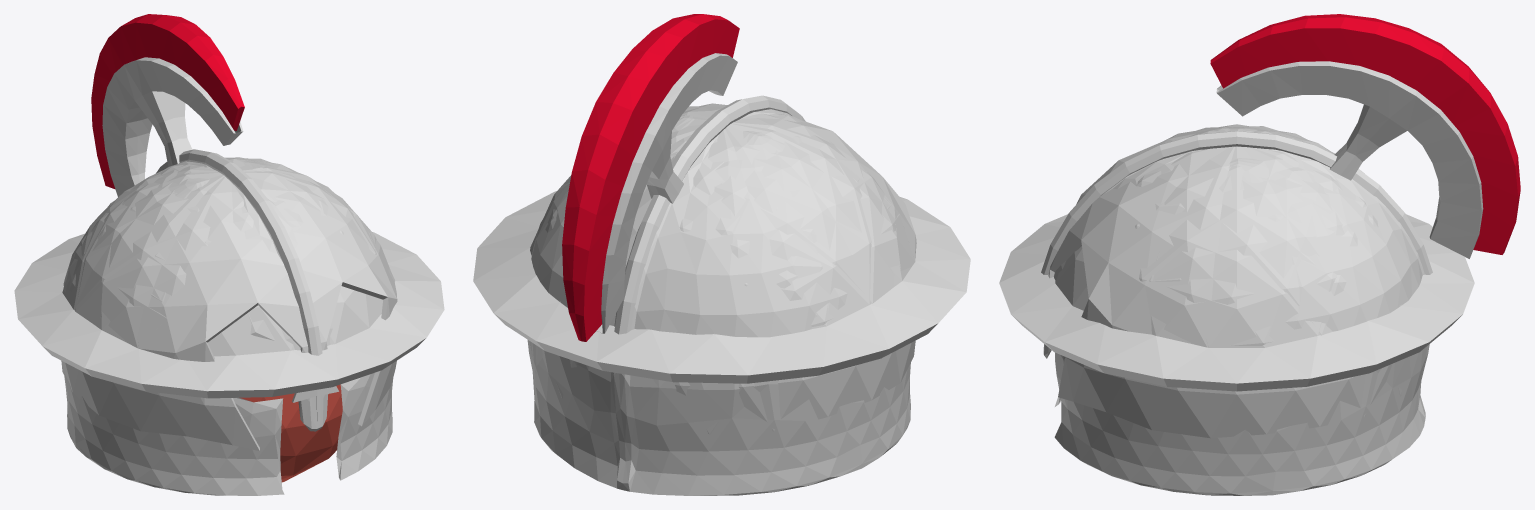
File: helmets.fbx
3 views of the same model, side by side, from view 1: azimuth 30°, elevation 25°; view 2: azimuth 150°, elevation 25°; view 3: azimuth 270°, elevation 25° (orthographic). The views are drawn at different scales.
Visible parts, largest first — view 1: helmet01, helmet02, helmet03, helmet03.1, helmet03.2, head; view 2: helmet03, helmet01, helmet02, helmet03.2, helmet03.1; view 3: helmet01, helmet03, helmet02, helmet03.2, helmet03.1.
Part boxes in pixels (<box>): helmet01: <box>14,149,444,398</box>; helmet02: <box>61,157,397,450</box>; helmet03: <box>63,157,393,495</box>; helmet03.1: <box>102,57,243,196</box>; helmet03.2: <box>91,14,244,188</box>; head: <box>239,384,342,482</box>; helmet03: <box>527,109,910,495</box>; helmet01: <box>473,95,970,383</box>; helmet02: <box>529,103,916,434</box>; helmet03.2: <box>562,14,739,341</box>; helmet03.1: <box>596,53,737,333</box>; helmet01: <box>999,124,1474,391</box>; helmet03: <box>1043,127,1429,495</box>; helmet02: <box>1048,126,1402,438</box>; helmet03.2: <box>1210,14,1520,254</box>; helmet03.1: <box>1216,61,1483,258</box>.
Bounding box in the file's own units: 2.64 × 2.82 × 2.9.
